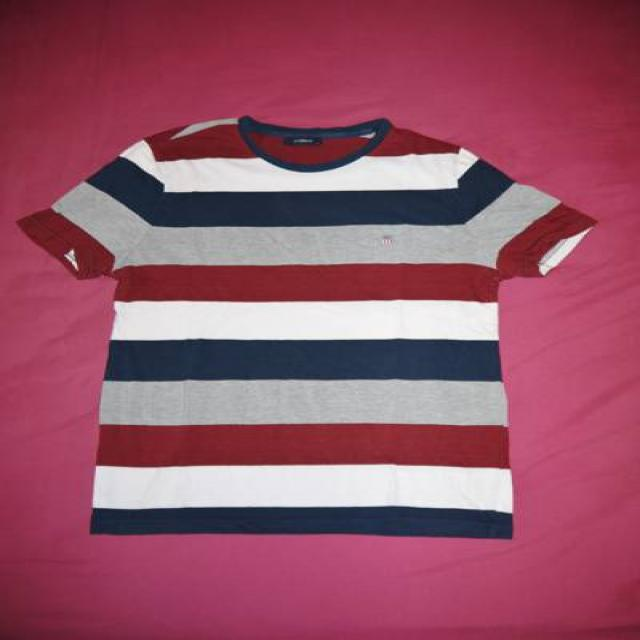Clothes -Biodegradable-: (13, 116, 598, 537)
